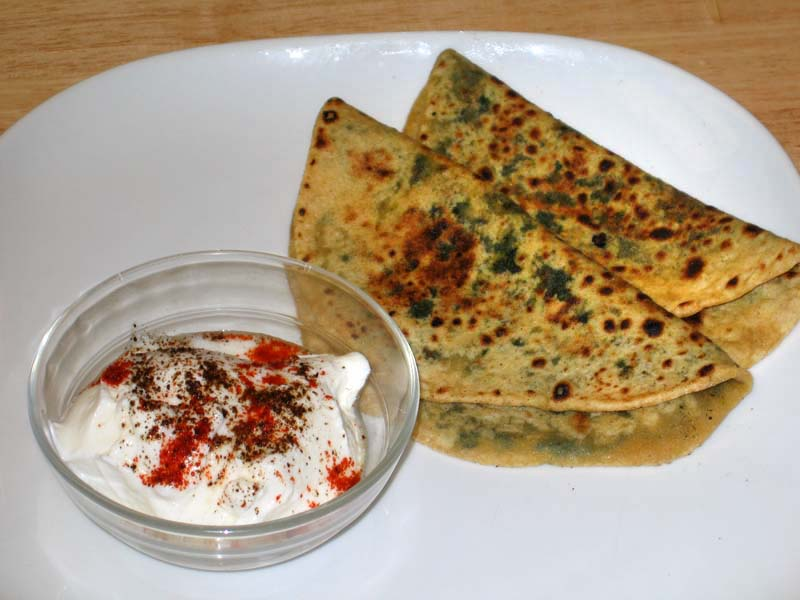aloo_paratha: (285, 50, 800, 472)
